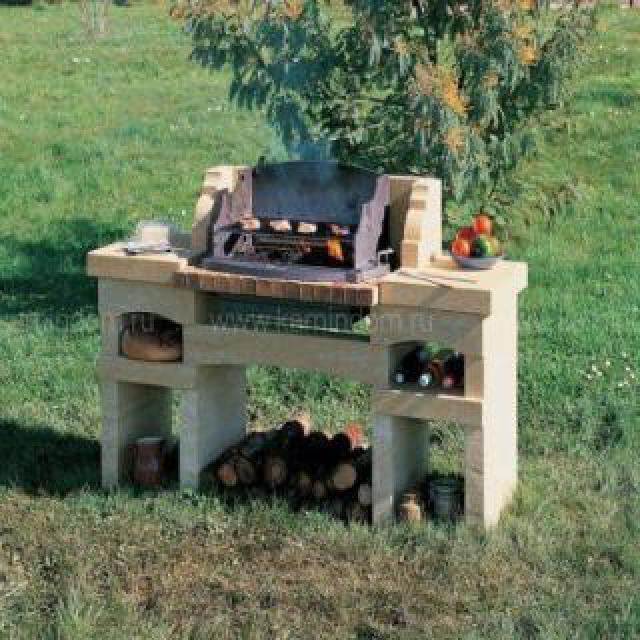Fire: (326, 232, 346, 268)
Smoke: (258, 76, 336, 186)
